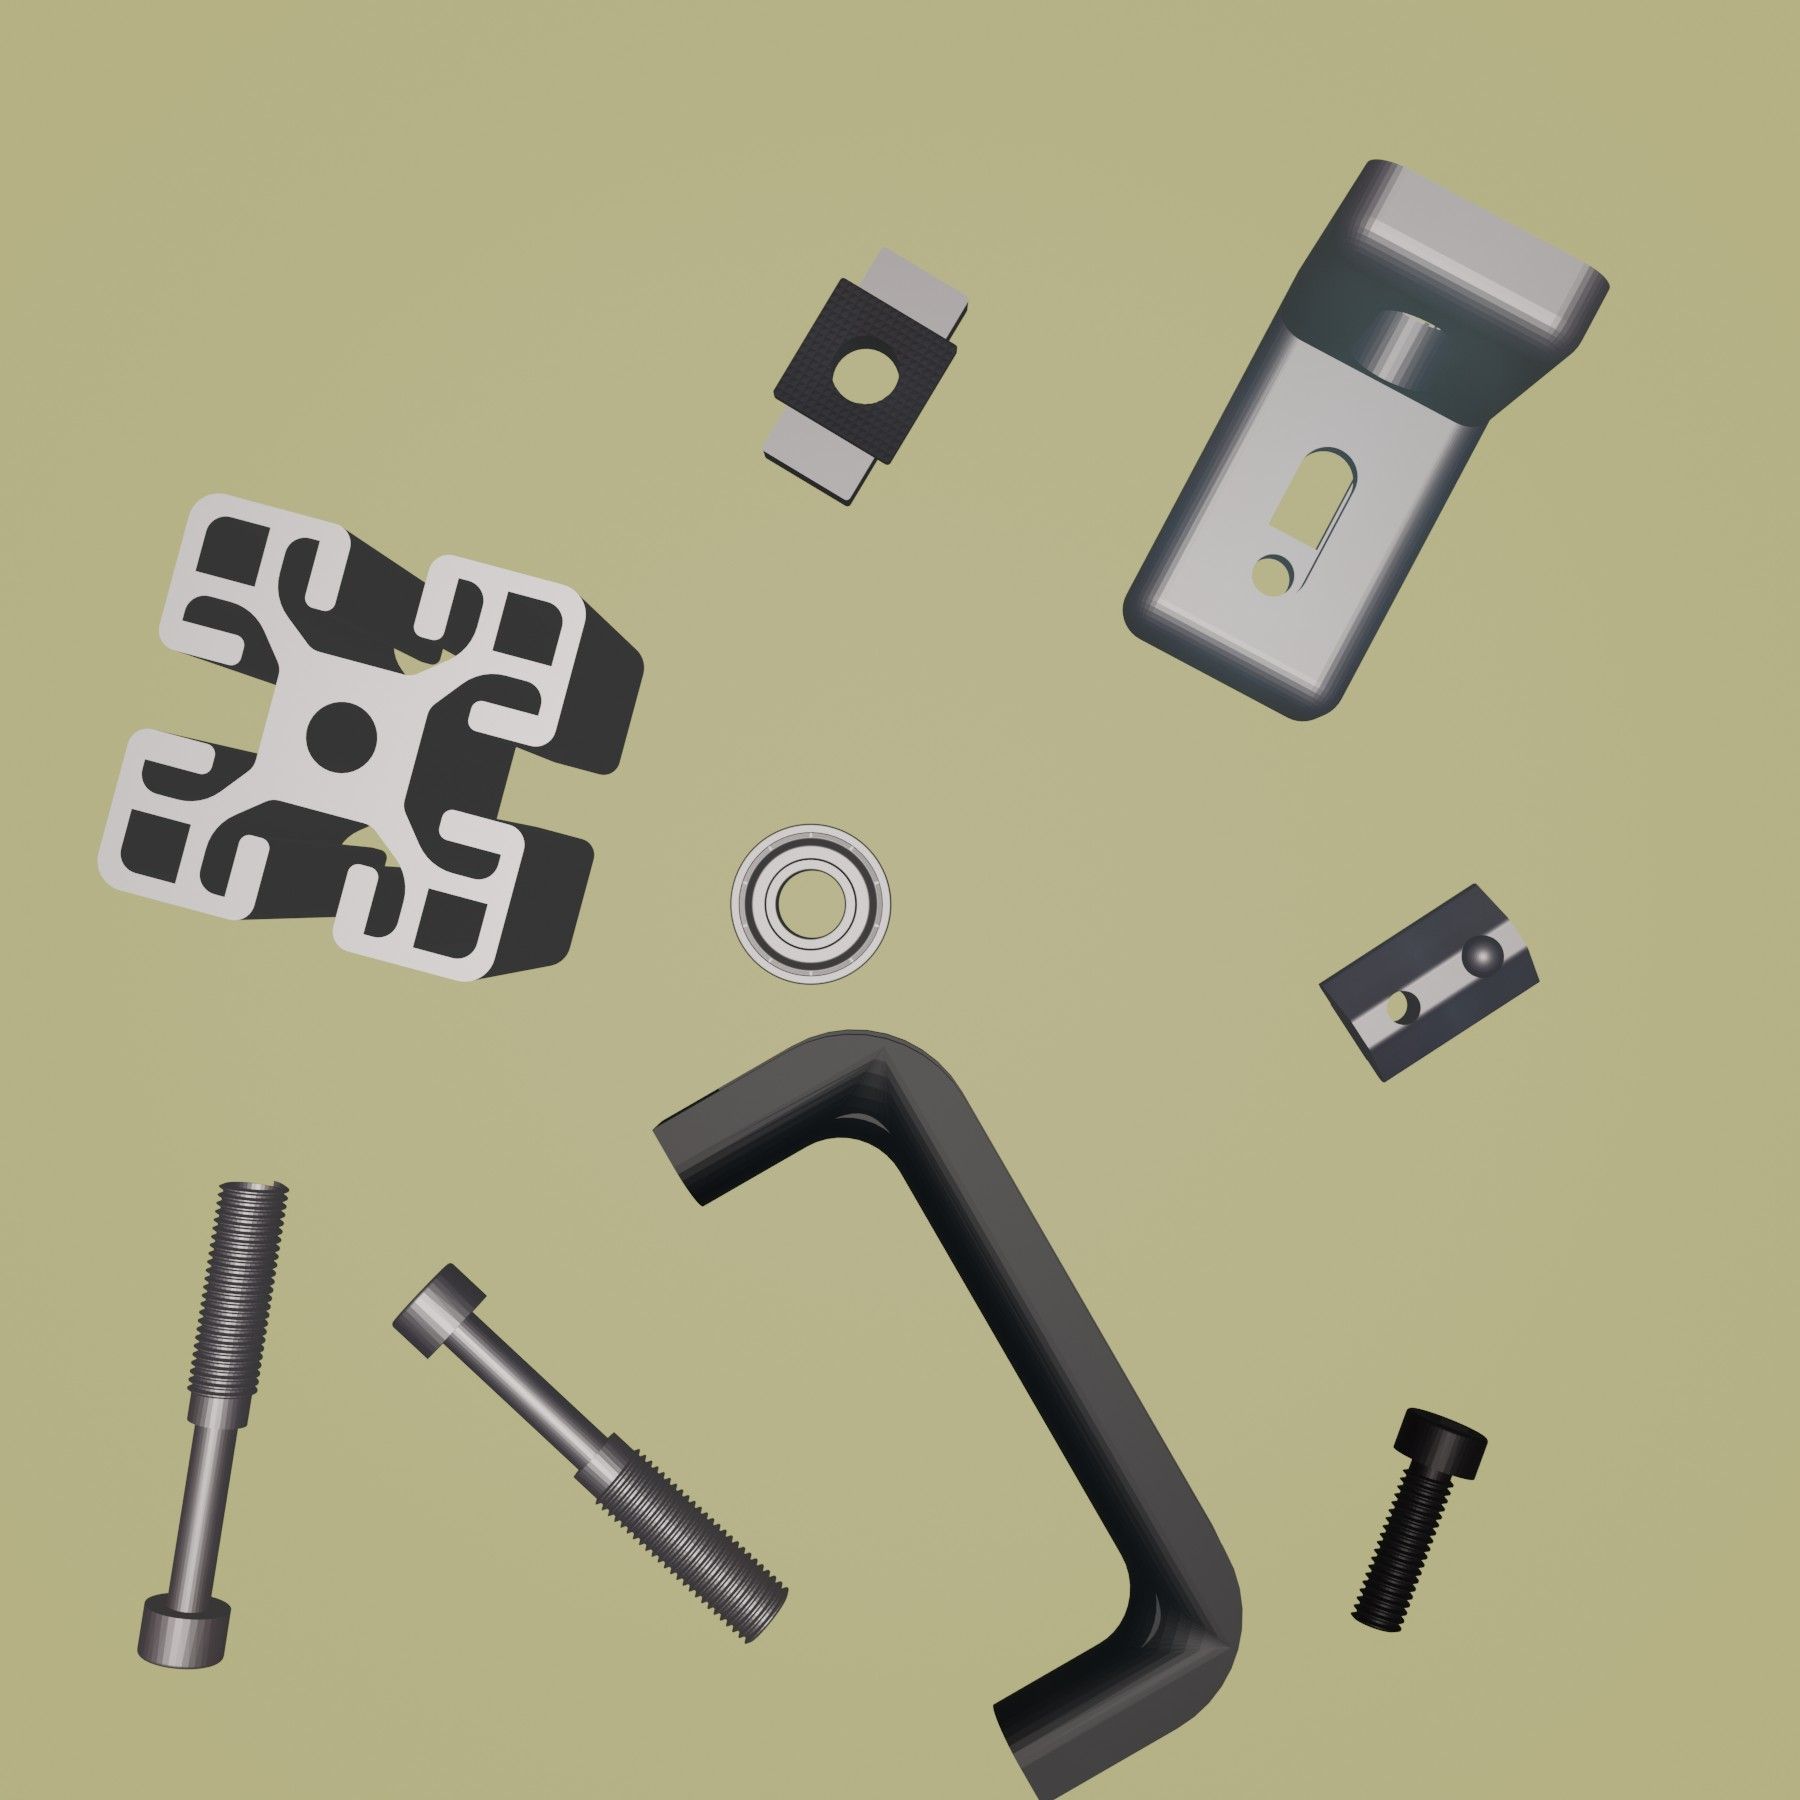Aluminium Extension: (96, 493, 646, 986)
Ball Bearing: (727, 823, 897, 986)
Multiwinkel: (1123, 155, 1614, 724)
Pull Handle: (648, 1029, 1246, 1800)
Shoulder Socket Head Cap Screw: (392, 1261, 790, 1648), (134, 1174, 297, 1671)
Socket Head Cap Screw: (1347, 1408, 1490, 1634)
T Nut Square: (762, 242, 973, 509)
T Spring Nut: (1315, 880, 1543, 1085)
